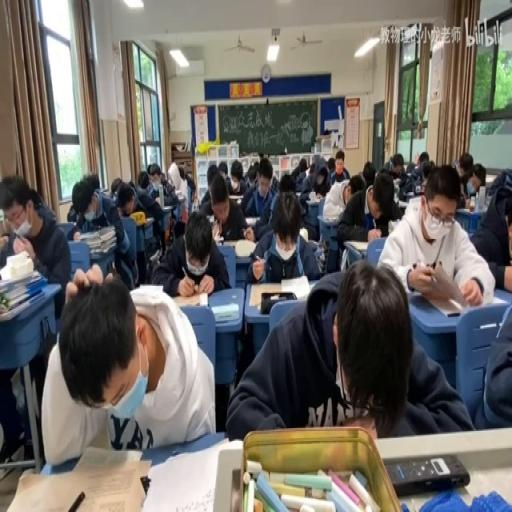calculator: (6, 448, 152, 512), (140, 440, 230, 509), (248, 276, 309, 309), (170, 287, 208, 306), (210, 300, 238, 322), (316, 239, 329, 273), (481, 292, 509, 307), (234, 238, 256, 256), (346, 239, 368, 252), (211, 219, 222, 240), (387, 219, 400, 235), (148, 249, 160, 266), (306, 196, 322, 208), (220, 240, 238, 250), (396, 199, 409, 212), (100, 189, 112, 201), (152, 194, 162, 208), (298, 226, 308, 240), (245, 214, 258, 224), (228, 192, 243, 199), (174, 189, 184, 199), (206, 214, 216, 224), (144, 216, 154, 225), (414, 183, 422, 192), (393, 178, 400, 186)
paper: (228, 257, 470, 438), (44, 269, 211, 465), (376, 164, 494, 308), (0, 175, 70, 317), (73, 171, 137, 290), (246, 189, 322, 287), (473, 270, 512, 426), (336, 166, 394, 260), (190, 171, 250, 250), (129, 172, 173, 258), (451, 151, 477, 206), (322, 178, 350, 223), (179, 165, 196, 222), (485, 169, 511, 205), (306, 155, 328, 196), (398, 168, 416, 198), (289, 158, 307, 186), (387, 151, 406, 176), (116, 188, 134, 214), (224, 170, 243, 194), (348, 176, 366, 199), (362, 160, 375, 188), (245, 162, 259, 188), (472, 162, 486, 188), (158, 185, 176, 205), (146, 162, 162, 184), (278, 172, 294, 192), (206, 162, 217, 186), (136, 171, 150, 189), (110, 176, 122, 196), (267, 172, 278, 192), (66, 204, 76, 224), (218, 161, 228, 176), (418, 150, 428, 164), (334, 150, 344, 164), (326, 155, 334, 172), (178, 164, 186, 180), (405, 162, 414, 175), (418, 175, 427, 188), (413, 150, 419, 164), (452, 158, 458, 169), (258, 152, 265, 161), (308, 164, 314, 172)
person: (385, 452, 470, 494), (139, 474, 150, 496), (106, 257, 116, 276)
